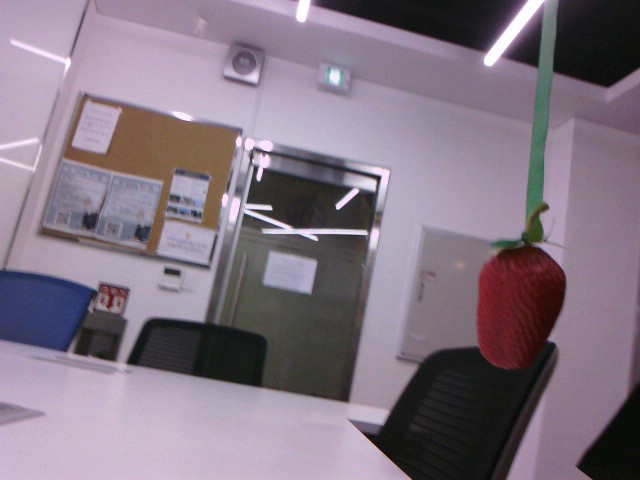strawberry: (468, 236, 572, 373)
